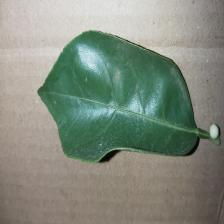healthy: (40, 30, 210, 177)
